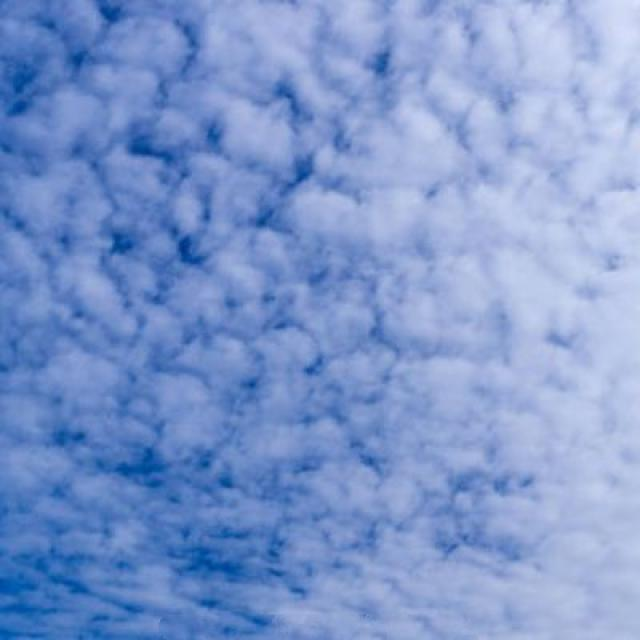Cc: (1, 18, 640, 517)
